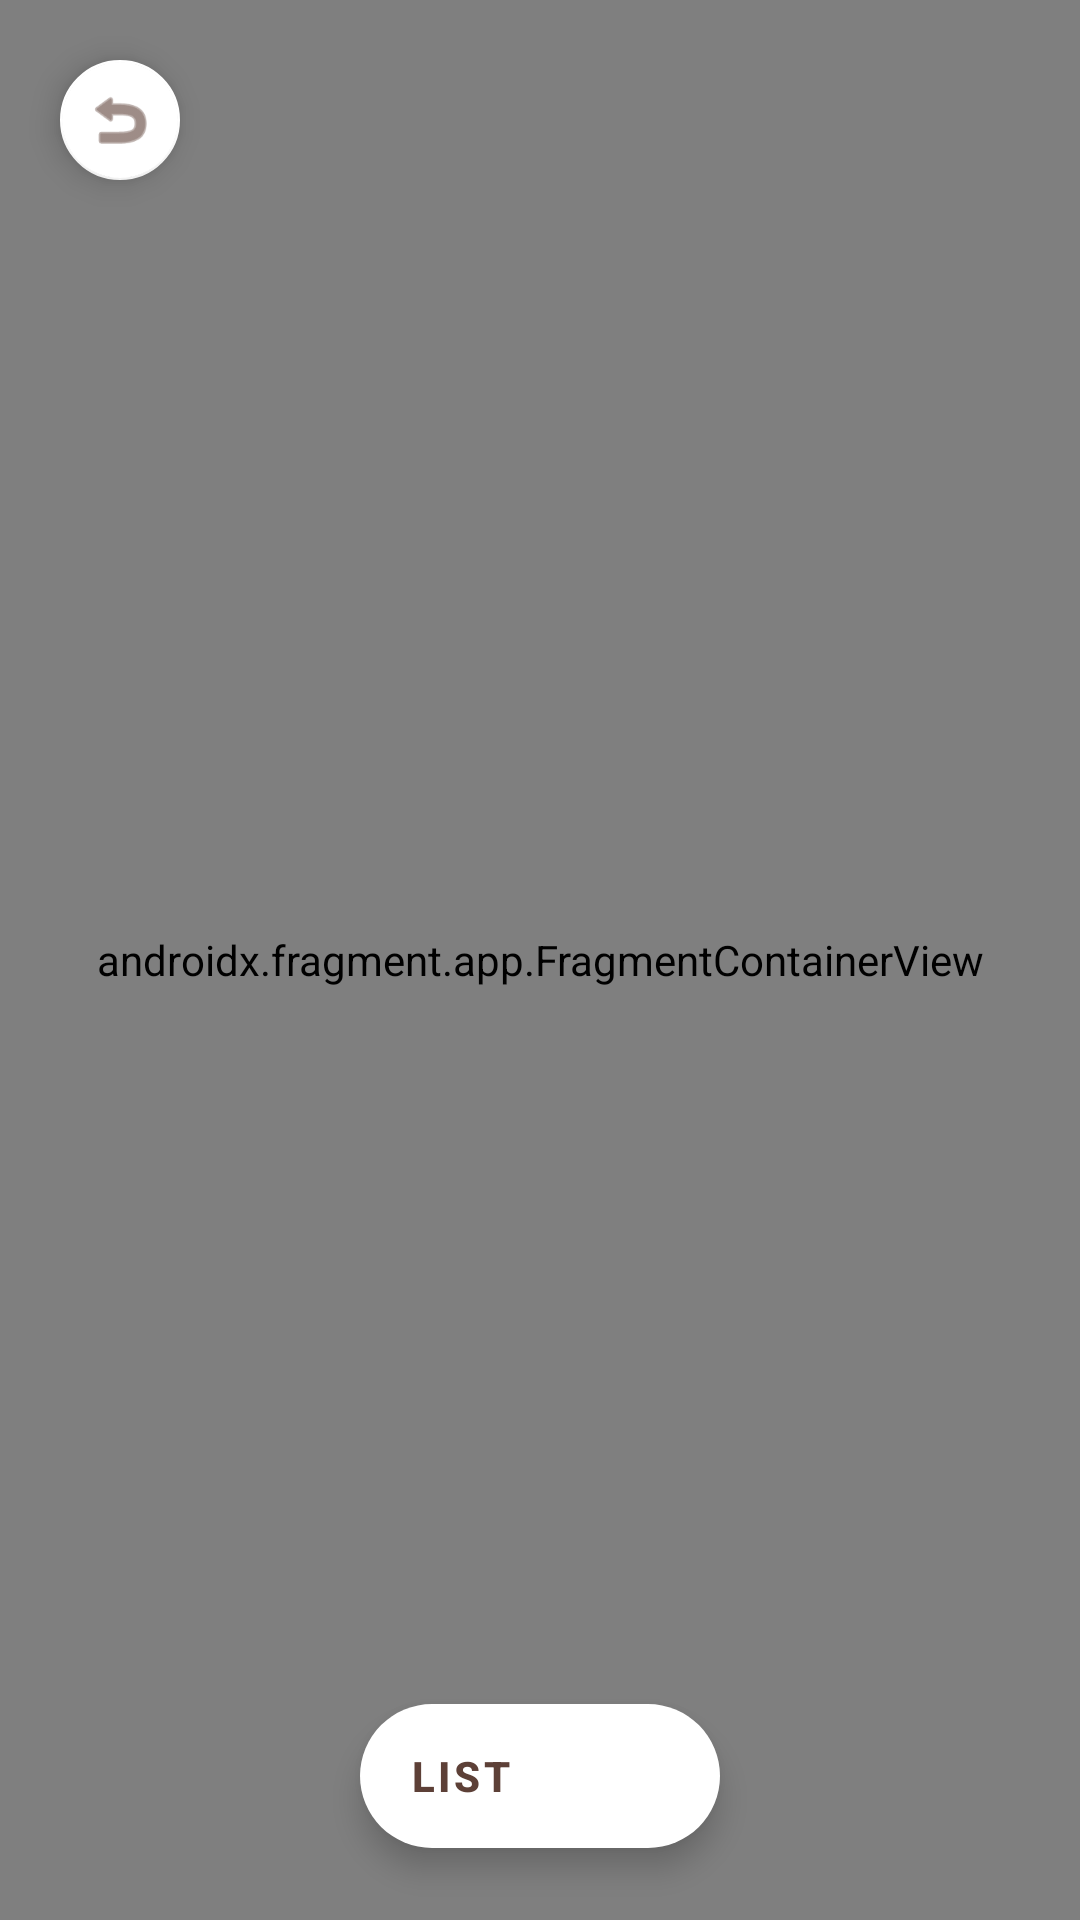

Screen size 1080px x 1920px. Icon name, then its center in pixels as [x,y]:
revert: [120,120]
